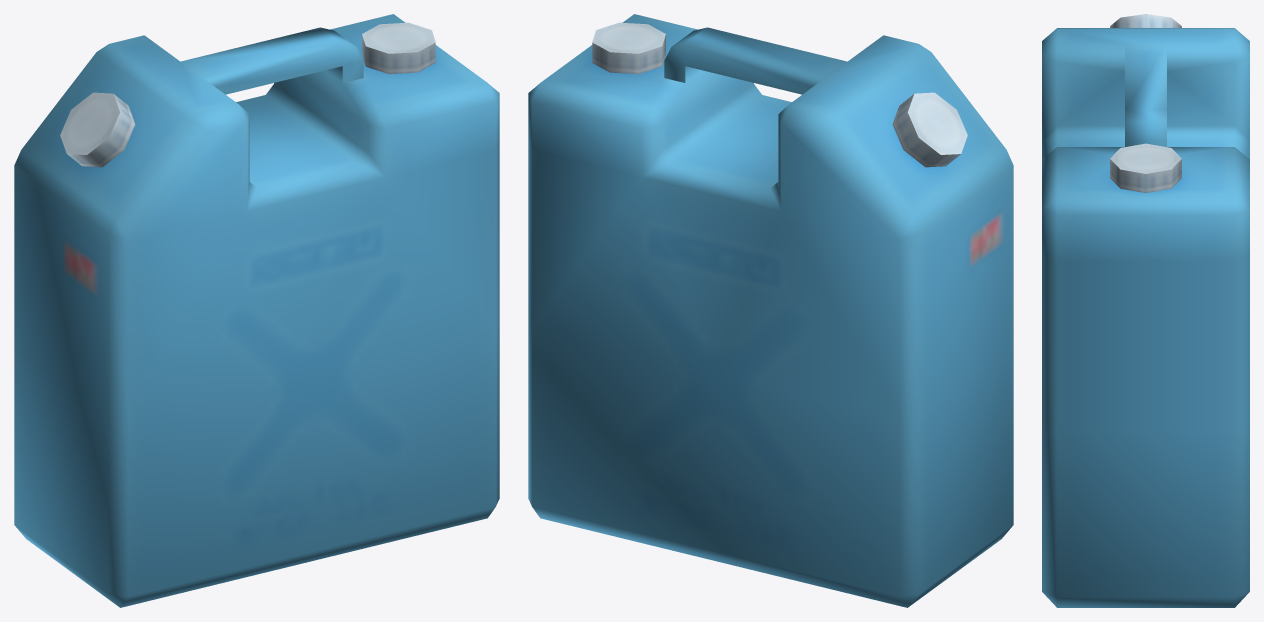
File: jsf_PolyTank_03.fbx
3 views of the same model, side by side, from view 1: azimuth 30°, elevation 25°; view 2: azimuth 150°, elevation 25°; view 3: azimuth 270°, elevation 25° (orthographic). The views are drawn at different scales.
Visible parts, largest first — view 1: jsf_PolyTank_03; view 2: jsf_PolyTank_03; view 3: jsf_PolyTank_03.
Boxes of the visible parts, bbox=[...] form: jsf_PolyTank_03: bbox=[14, 14, 499, 607]; jsf_PolyTank_03: bbox=[528, 14, 1013, 607]; jsf_PolyTank_03: bbox=[1042, 14, 1249, 607].
Size of the model in its own units: 35.69 by 41.38 by 17.4.
